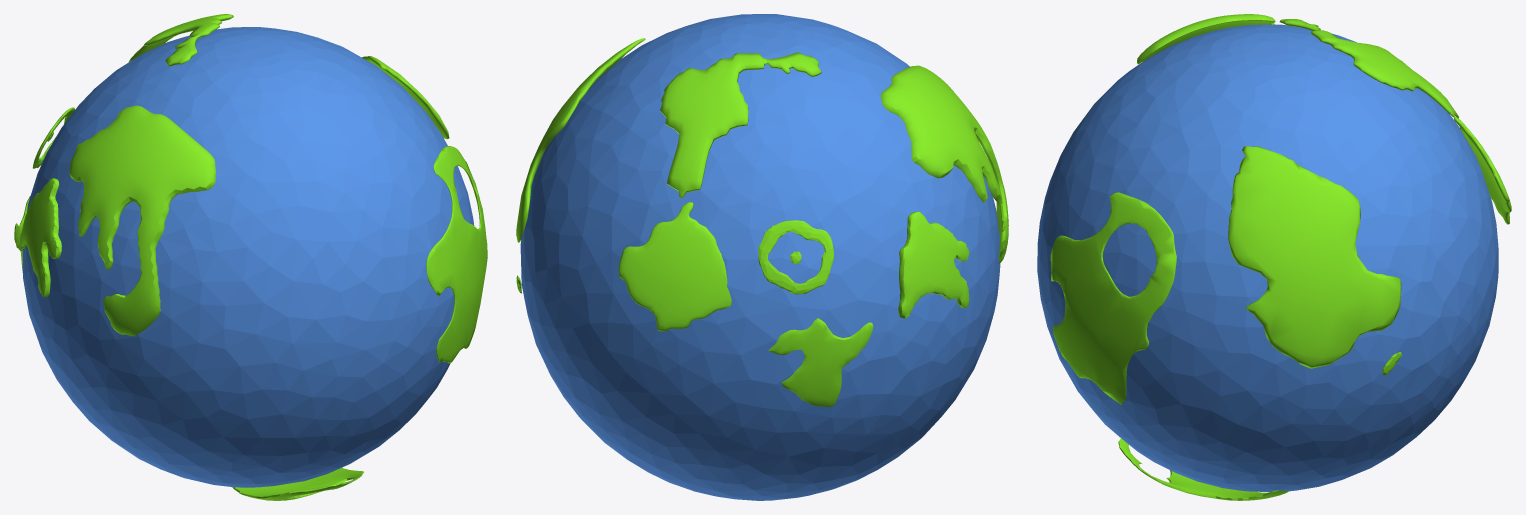
The model's file is World&Continents.fbx.
3 views of the same model, side by side, from view 1: azimuth 30°, elevation 25°; view 2: azimuth 150°, elevation 25°; view 3: azimuth 270°, elevation 25° (orthographic). The views are drawn at different scales.
Visible parts, largest first — view 1: World, Continent 12, Continent 8.001, Continent 3.001, Continent 11, Continent 10.001, Continent 1.001; view 2: World, Continent 12, Continent 2.001, Continent 10.001, Continent 3.001, Continent 5.001, Continent 6.001, Continent 1.001; view 3: World, Continent 1.001, Continent 8.001, Continent 10.001, Continent 11, Continent 12, Continent 2.001.
Part boxes in pixels (box(x1,y1,x2,y2)): World: box(22, 27, 474, 487); Continent 12: box(69, 105, 215, 336); Continent 8.001: box(426, 146, 487, 363); Continent 3.001: box(19, 178, 61, 297); Continent 11: box(232, 467, 363, 500); Continent 10.001: box(128, 14, 233, 66); Continent 1.001: box(362, 56, 449, 139); World: box(520, 14, 1000, 500); Continent 12: box(880, 65, 1008, 263); Continent 2.001: box(618, 202, 731, 331); Continent 10.001: box(660, 52, 821, 198); Continent 3.001: box(898, 211, 969, 318); Continent 5.001: box(768, 318, 873, 407); Continent 6.001: box(758, 220, 833, 294); Continent 1.001: box(516, 38, 645, 242); World: box(1037, 24, 1498, 491); Continent 1.001: box(1228, 146, 1401, 368); Continent 8.001: box(1050, 192, 1176, 404); Continent 10.001: box(1279, 19, 1458, 118); Continent 11: box(1118, 438, 1289, 500); Continent 12: box(1137, 14, 1275, 64); Continent 2.001: box(1454, 117, 1511, 224).
Size of the model in its own units: 199 by 203 by 199.
